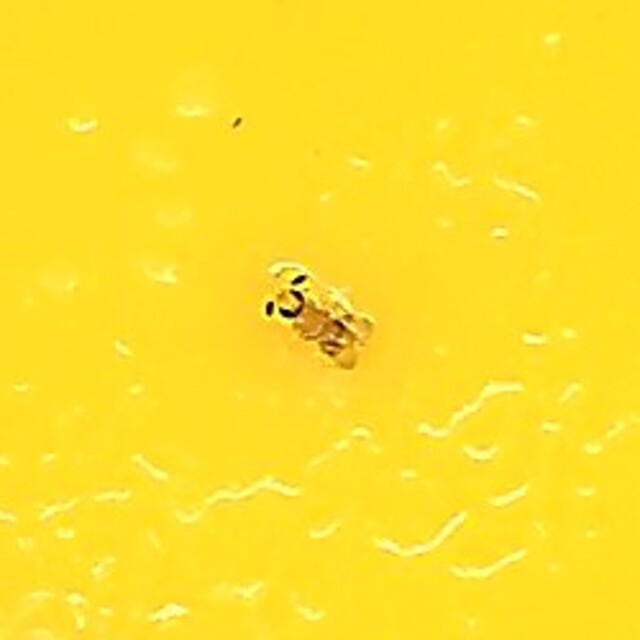Hymenoptera: (256, 262, 384, 378)
